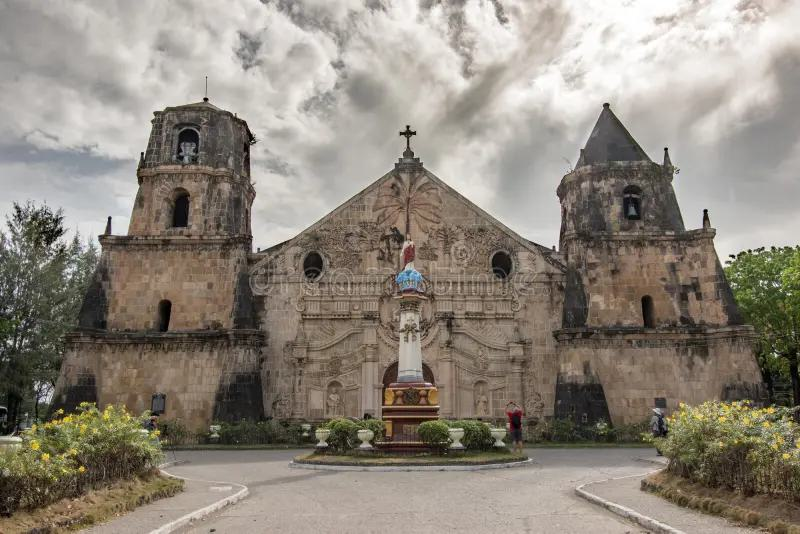Environmental Damage: (665, 159, 684, 181), (243, 126, 261, 147)
Miagao Church: (66, 76, 773, 443)
